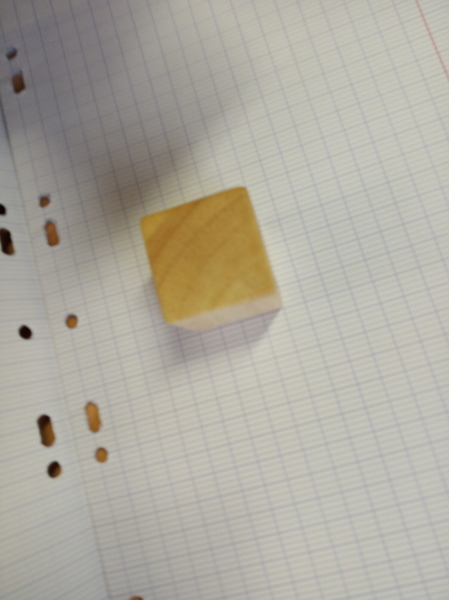violet: (139, 209, 269, 316)
